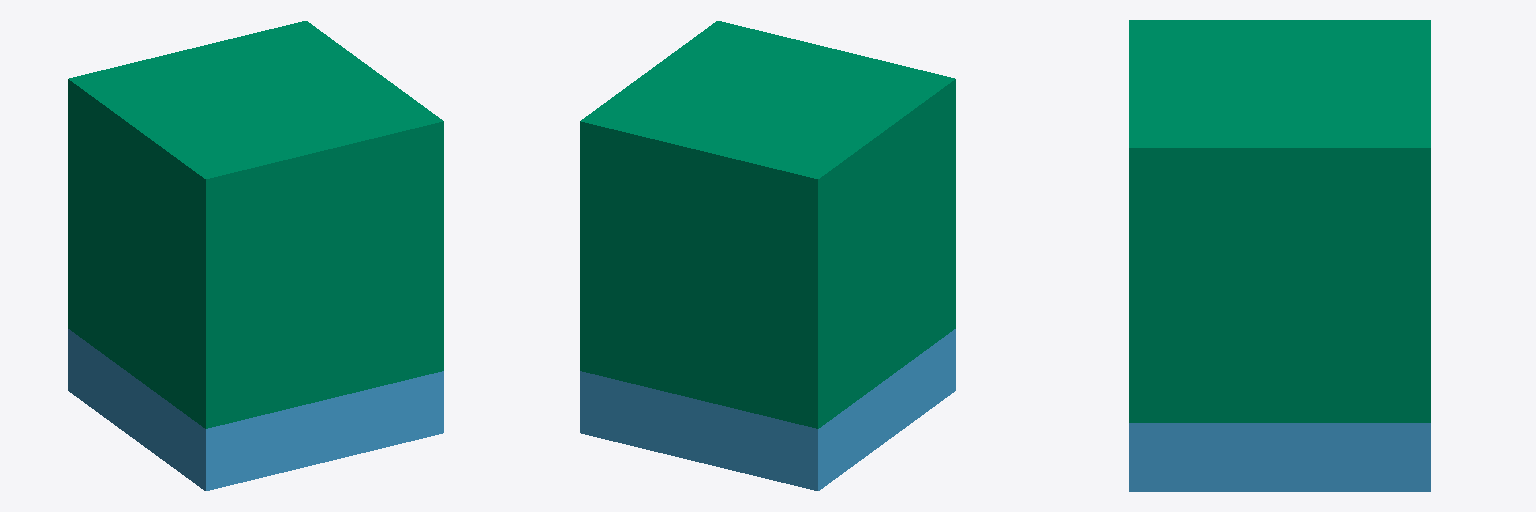
URDF robot description (simple_box):
<?xml version="1.0"?>
<robot name="simple_box">

    <link name="dummy" />
    <joint name="dummy_joint" type="fixed">
        <parent link="dummy"/>
        <child link="base_link"/>
    </joint>

    <link name="base_link">
        <inertial>
            <origin xyz="0.0 0.0 0.0" rpy="0.0 0.0 0.0"/>
            <mass value="10"/>
            <inertia ixx="0.0013" ixy="0.0" ixz="0.0" iyy="0.0013" iyz="0.0" izz="0.0013"/>
        </inertial>
        <visual>
            <origin xyz="0.0 0.0 0.025" />
            <geometry>
                <box size="0.2 0.2 0.05"/>
            </geometry>
        </visual>
        <collision>
            <origin xyz="0.0 0.0 0.025" />
            <geometry>
                <box size="0.2 0.2 0.05"/>
            </geometry>
        </collision>
    </link>

    <link name="link_box">
        <inertial>
            <origin xyz="0.0 0.0 0.0" rpy="0.0 0.0 0.0"/>
            <mass value="0.2"/>
            <inertia ixx="0.0013" ixy="0.0" ixz="0.0" iyy="0.0013" iyz="0.0" izz="0.0013"/>
        </inertial>
        <visual>
            <origin xyz="0.0 0.0 0.1" />
            <geometry>
                <box size="0.2 0.2 0.2"/>
            </geometry>
        </visual>
        <collision>
            <origin xyz="0.0 0.0 0.1" />
            <geometry>
                <box size="0.2 0.2 0.2"/>
            </geometry>
        </collision>
    </link>

    <joint name="joint_box" type="prismatic">
        <origin xyz="0.0 0.0 0.05" rpy="0.0 0.0 0.0"/>
        <parent link="base_link"/>
        <child link="link_box"/>
        <axis xyz="0.0 0.0 1.0"/>
        <limit lower="0.0" upper="1.0" effort="100.0" velocity="0.2"/>
    </joint>

    <transmission name="trans_box">
        <type>transmission_interface/SimpleTransmission</type>
        <joint name="joint_box">
            <hardwareInterface>hardware_interface/PositionJointInterface</hardwareInterface>
        </joint>
        <actuator name="motor_box">
            <hardwareInterface>hardware_interface/PositionJointInterface</hardwareInterface>
            <mechanicalReduction>1</mechanicalReduction>
        </actuator>
    </transmission>

    <gazebo>
        <plugin name="ros_control" filename="libgazebo_ros_control.so" />
    </gazebo>

    <gazebo reference="link_box" >
        <material>Gazebo/Blue</material>
    </gazebo>


</robot>

--- Render facts (derived) ---
3 views of the same robot in one strip: view 1: azimuth 30°, elevation 25°; view 2: azimuth 150°, elevation 25°; view 3: azimuth 270°, elevation 25° (orthographic).
Robot: simple_box — 3 links, 2 joints (1 prismatic, 1 fixed); root link dummy; default pose: all joints at 0.
Links seen in each view (by area): view 1: link_box, base_link; view 2: link_box, base_link; view 3: link_box, base_link.
Link boxes in pixels (box(x1,y1,x2,y2)): link_box: box(68, 21, 443, 428); base_link: box(68, 329, 443, 490); link_box: box(580, 21, 955, 428); base_link: box(580, 329, 955, 490); link_box: box(1129, 20, 1430, 422); base_link: box(1129, 423, 1430, 491).
Bounding box of the posed robot: 0.2 × 0.2 × 0.25 m (x, y, z).
Geometry: primitives only (box / cylinder / sphere), no mesh files.